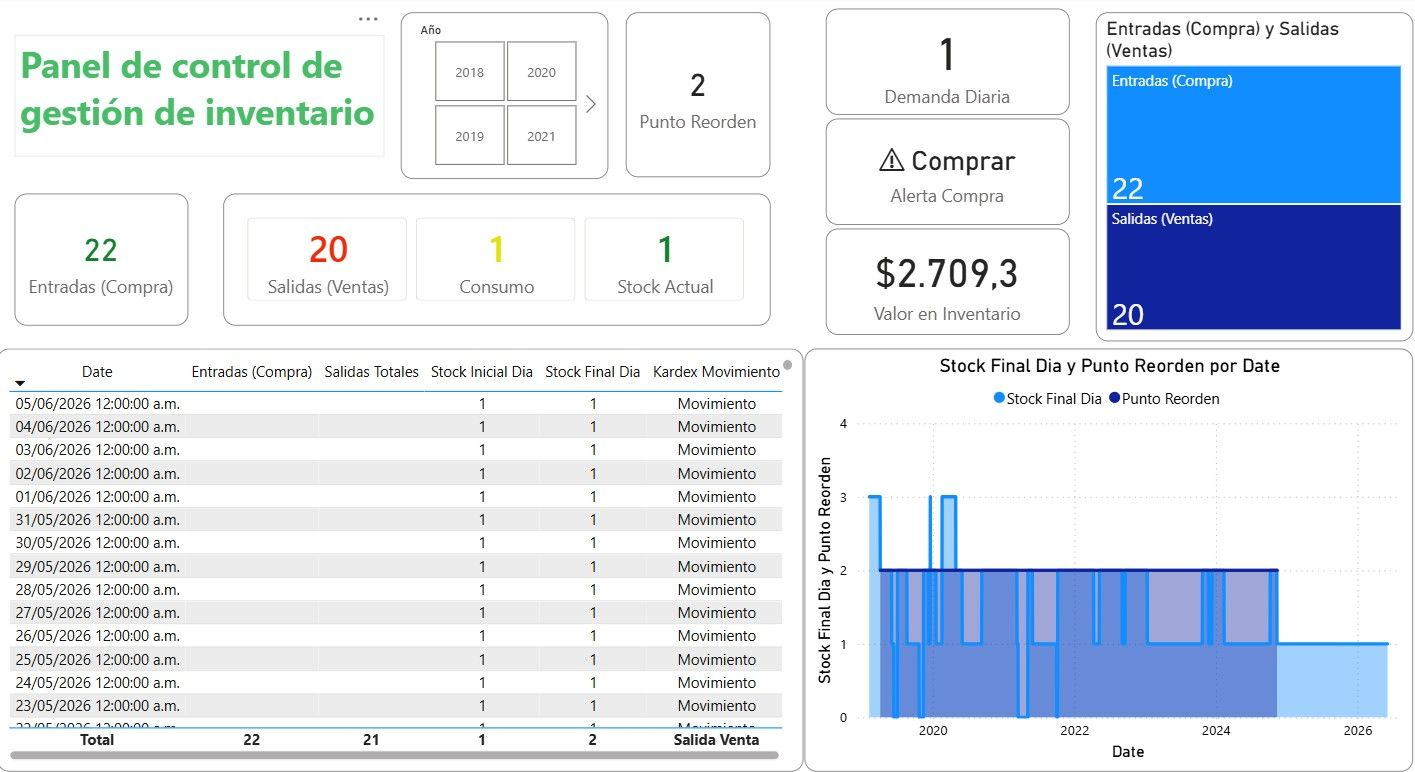

The dashboard page shown, as its layout file describes it:
{"tool":"powerbi","page":{"name":"Página 1","canvas":[1280,720],"ordinal":0},"visuals":[{"type":"card","fields":{"Values":["_MEDIDAS INVENTARIO.Valor en Inventario"]},"box":[747.3,209.6,219.8,95.8],"z":0},{"type":"card","fields":{"Values":["_MEDIDAS INVENTARIO.Entradas"]},"box":[15.8,178.1,156.7,119.5],"z":1000},{"type":"cardVisual","fields":{"Data":["MEDIDAS INVENTARIO.Salidas (Ventas)","MEDIDAS INVENTARIO.Consumo","MEDIDAS INVENTARIO.Stock Actual"]},"box":[204,178.1,493.7,119.5],"z":2000},{"type":"card","fields":{"Values":["_MEDIDAS INVENTARIO.Alerta Compra"]},"box":[747.3,110.5,219.8,95.8],"z":3000},{"type":"areaChart","fields":{"Category":["Calendario.Date"],"Y":["MEDIDAS INVENTARIO.Stock Final Dia","MEDIDAS INVENTARIO.Punto Reorden"]},"box":[727.6,317.9,549.1,381.5],"z":4000},{"type":"treemap","fields":{"Values":["_MEDIDAS INVENTARIO.Entradas","MEDIDAS INVENTARIO.Salidas Ventas"]},"box":[990.5,14.7,286.1,297.1],"z":5000},{"type":"tableEx","fields":{"Values":["Calendario.Date","_MEDIDAS INVENTARIO.Entradas","_MEDIDAS INVENTARIO.Salidas Totales","_MEDIDAS INVENTARIO.Stock Inicial Dia","_MEDIDAS INVENTARIO.Stock Final Dia","_MEDIDAS INVENTARIO.Kardex Movimiento"]},"box":[0,317.9,727.6,381.5],"z":6000},{"type":"card","fields":{"Values":["_MEDIDAS INVENTARIO.Demanda Diaria 3"]},"box":[747.3,11.3,219.8,95.8],"z":7000},{"type":"card","fields":{"Values":["MEDIDAS INVENTARIO.Punto Reorden"]},"box":[566.9,14.7,130.7,148.8],"z":8000},{"type":"slicer","fields":{"Values":["Calendario.Año"]},"box":[364,15.1,187.2,150],"z":9000},{"type":"textbox","box":[15.8,34.9,333.6,110.5],"z":10000}]}

Visuals, with their boxes on the page's 1280x720 design canvas (x1, y1, x2, y2). These are canvas units, not pixel positions in the 1415x772 screenshot, which may show the page scaled, cropped or inside an application window:
card - _MEDIDAS INVENTARIO.Valor en Inventario: detection(747, 210, 967, 305)
card - _MEDIDAS INVENTARIO.Entradas: detection(16, 178, 172, 298)
cardVisual - MEDIDAS INVENTARIO.Salidas (Ventas) x MEDIDAS INVENTARIO.Consumo: detection(204, 178, 698, 298)
card - _MEDIDAS INVENTARIO.Alerta Compra: detection(747, 110, 967, 206)
areaChart - Calendario.Date x MEDIDAS INVENTARIO.Stock Final Dia: detection(728, 318, 1277, 699)
treemap - _MEDIDAS INVENTARIO.Entradas x MEDIDAS INVENTARIO.Salidas Ventas: detection(990, 15, 1277, 312)
tableEx - Calendario.Date x _MEDIDAS INVENTARIO.Entradas: detection(0, 318, 728, 699)
card - _MEDIDAS INVENTARIO.Demanda Diaria 3: detection(747, 11, 967, 107)
card - MEDIDAS INVENTARIO.Punto Reorden: detection(567, 15, 698, 164)
slicer - Calendario.Año: detection(364, 15, 551, 165)
textbox: detection(16, 35, 349, 145)
